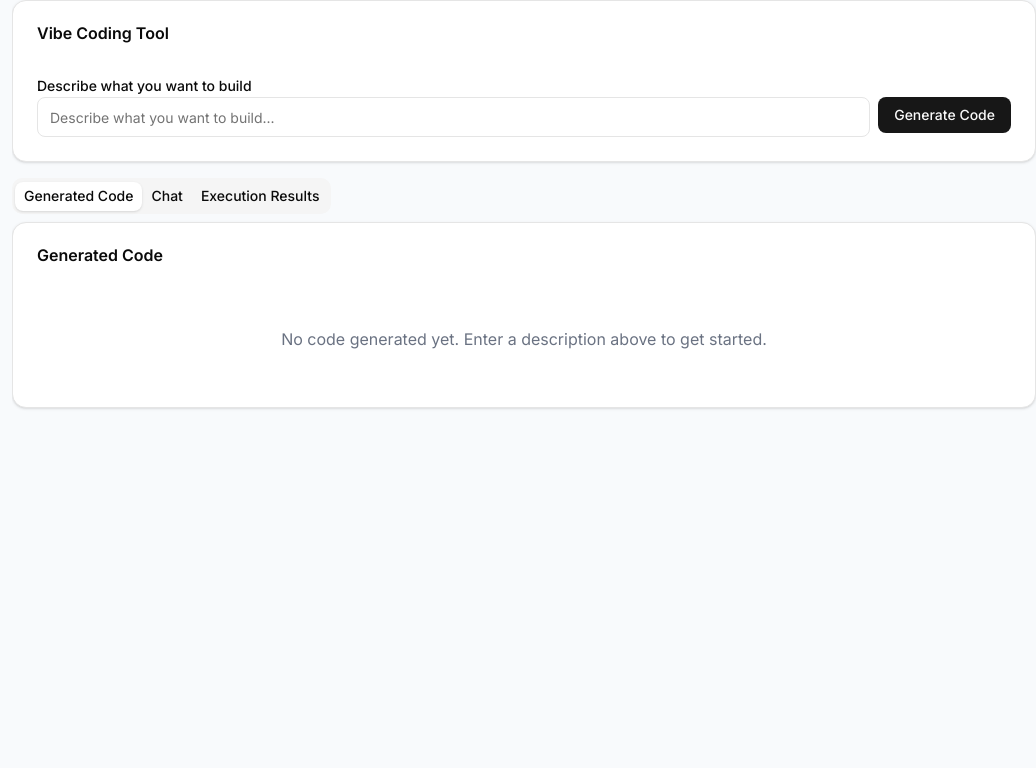
Test: VibeCodingTool › Component Initialization › should display the chat interface
The image size is (1036, 768).
# Click on the Chat tab to make it visible
Click the tab "Chat" at (167, 196), box [142,182,192,210]
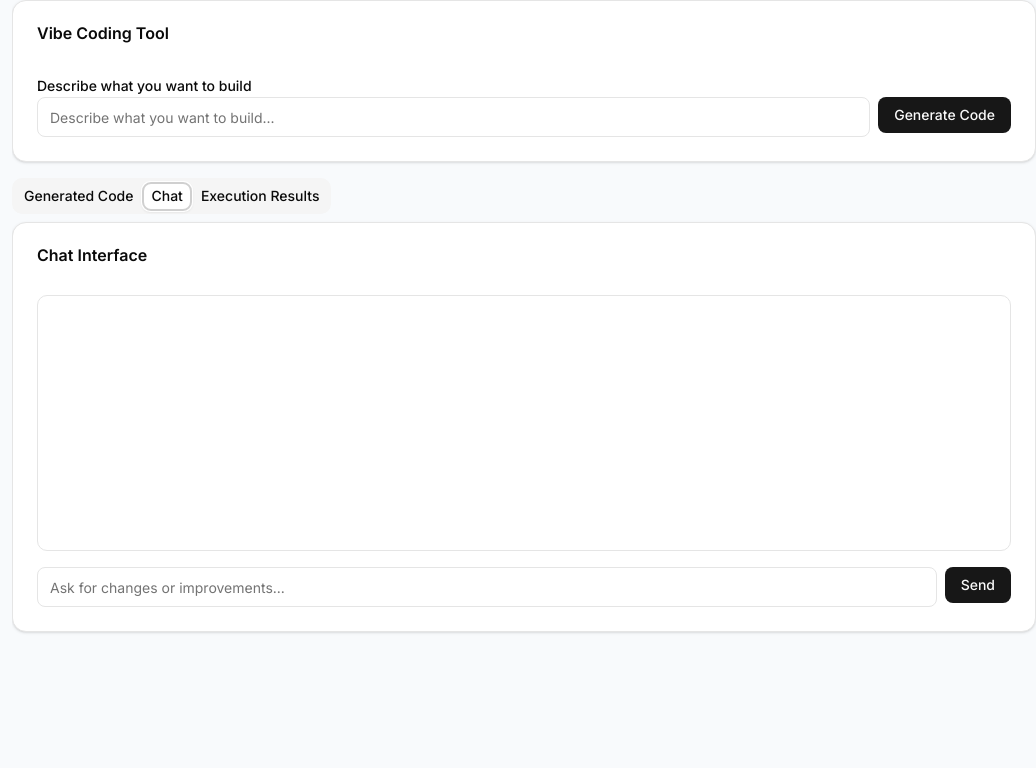
Now the element with test id "chat-messages" is shown, box [37,295,1011,551]
Now the field with test id "chat-input" is shown, box [37,567,937,607]
Now the button "Send" is shown, box [945,567,1011,603]
